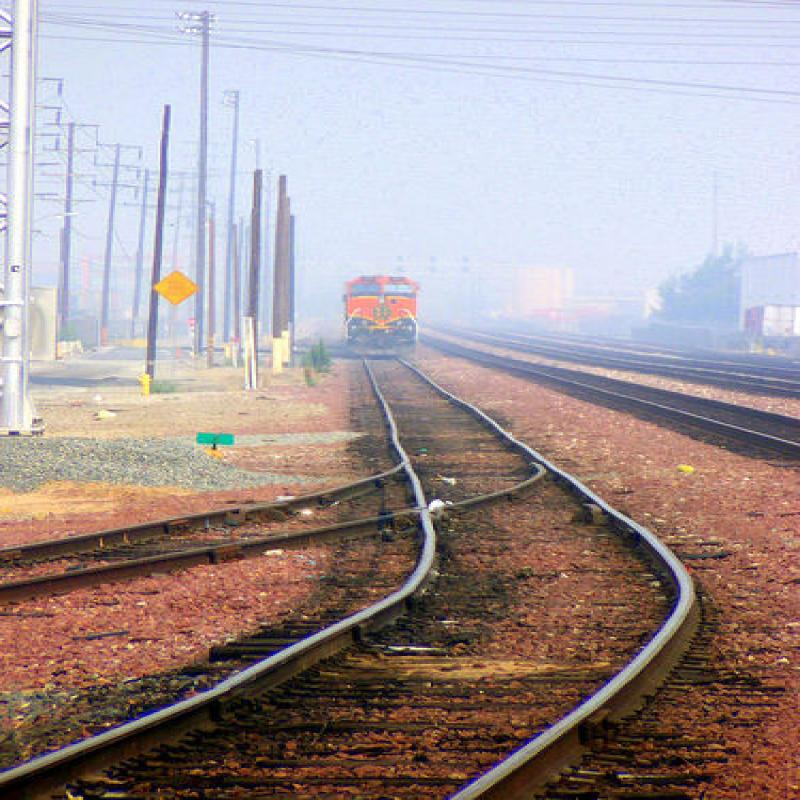train: (345, 271, 422, 345)
